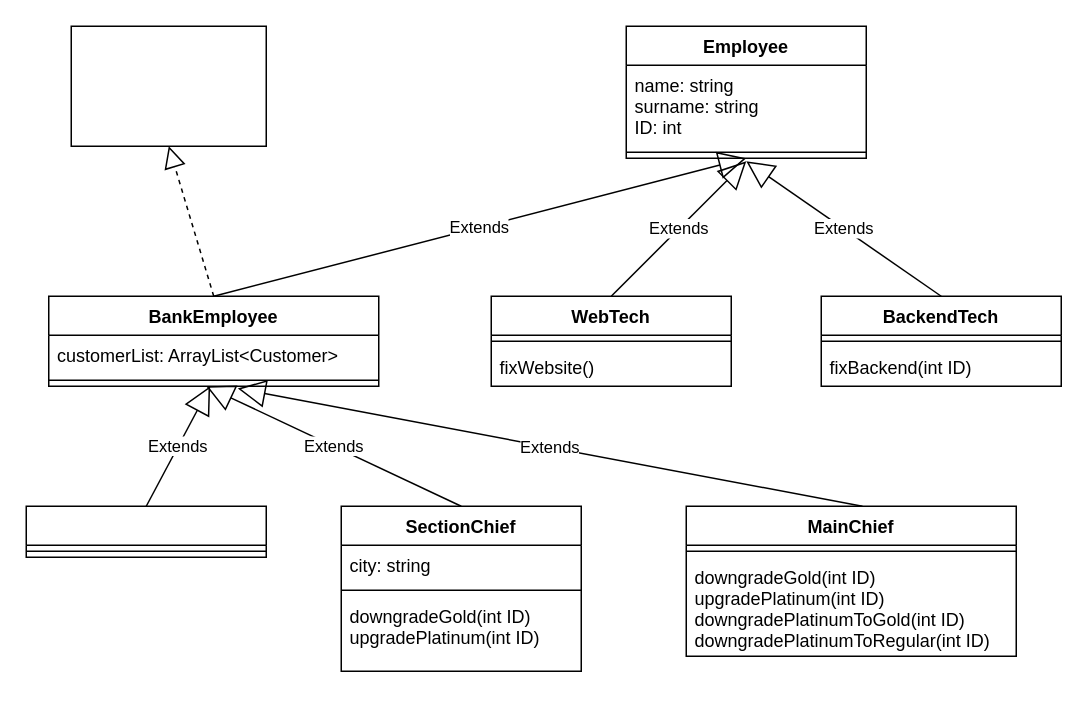
The diagram is 1088 pixels wide and 702 high, and some of its shapes have lost their labels. The centre of each missing label's shape, as x and y in pixels:
RegularEmployee: [145,531]
«interface» EmpOps upgradeGold(int ID) addCardToCustomer(): [168,85]
